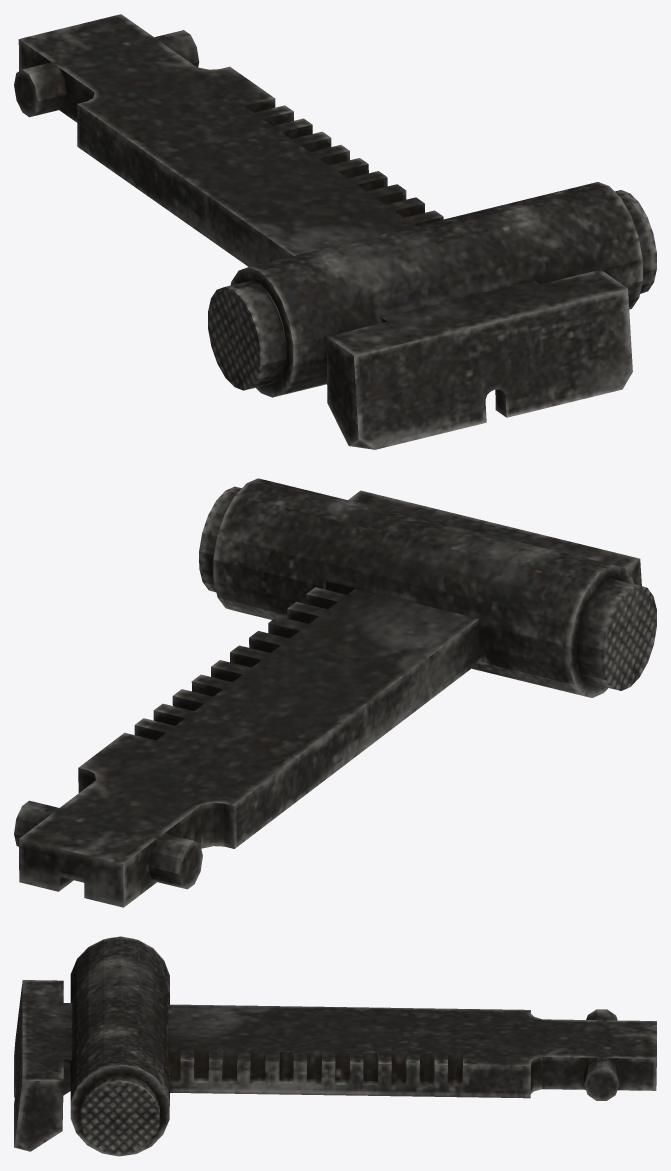
3 renders of one model, top to bottom at view 1: azimuth 30°, elevation 25°; view 2: azimuth 150°, elevation 25°; view 3: azimuth 270°, elevation 25°, orthographic. The views are drawn at different scales.
Visible parts, largest first — view 1: TW_59d650cf86f7741b846413a4_PZ_Import; view 2: TW_59d650cf86f7741b846413a4_PZ_Import; view 3: TW_59d650cf86f7741b846413a4_PZ_Import.
Part boxes in pixels (x1,y1,x2,y2): TW_59d650cf86f7741b846413a4_PZ_Import: (14, 14, 656, 449); TW_59d650cf86f7741b846413a4_PZ_Import: (14, 478, 656, 907); TW_59d650cf86f7741b846413a4_PZ_Import: (14, 936, 656, 1156).
Size of the model in its own units: 0.018 by 0.0336 by 0.00597.
1 material, 1 textured.
